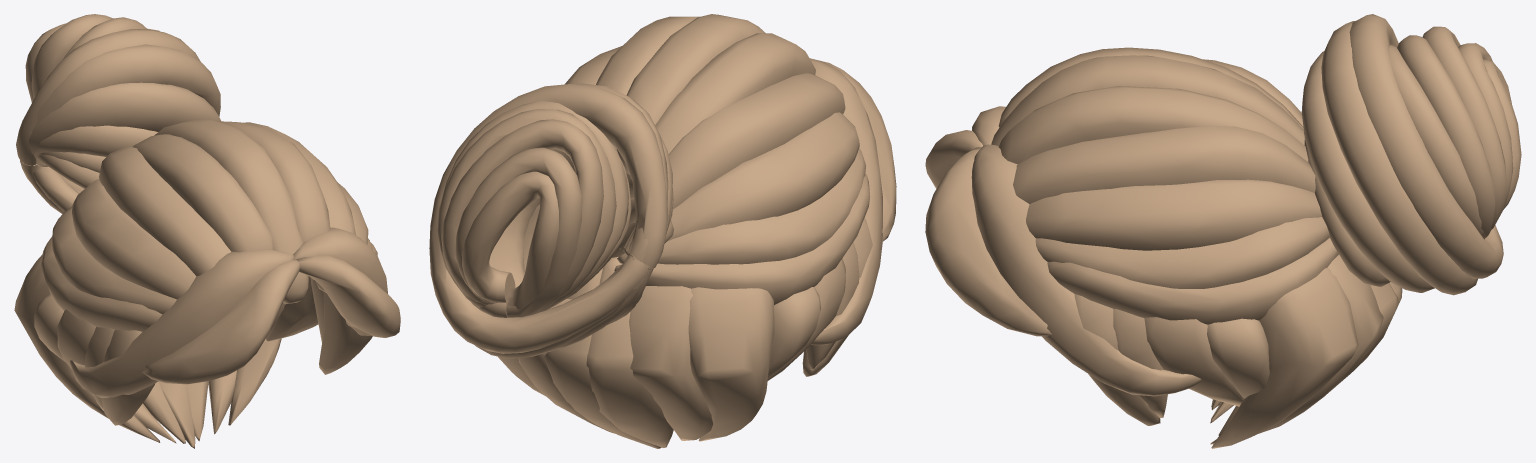
Rendered from hair-3-363d8cd7.glb.
3 views of the same model, side by side, from view 1: azimuth 30°, elevation 25°; view 2: azimuth 150°, elevation 25°; view 3: azimuth 270°, elevation 25° (orthographic). The views are drawn at different scales.
Parts seen in each view (by area): view 1: Geo_White_Older_Female_Hair_3.001; view 2: Geo_White_Older_Female_Hair_3.001; view 3: Geo_White_Older_Female_Hair_3.001.
Part boxes in pixels (left/top/right/bottom): Geo_White_Older_Female_Hair_3.001: left=14, top=14, right=400, bottom=448; Geo_White_Older_Female_Hair_3.001: left=429, top=14, right=896, bottom=448; Geo_White_Older_Female_Hair_3.001: left=925, top=14, right=1521, bottom=448.
Size of the model in its own units: 1.69 by 2.06 by 2.68.
